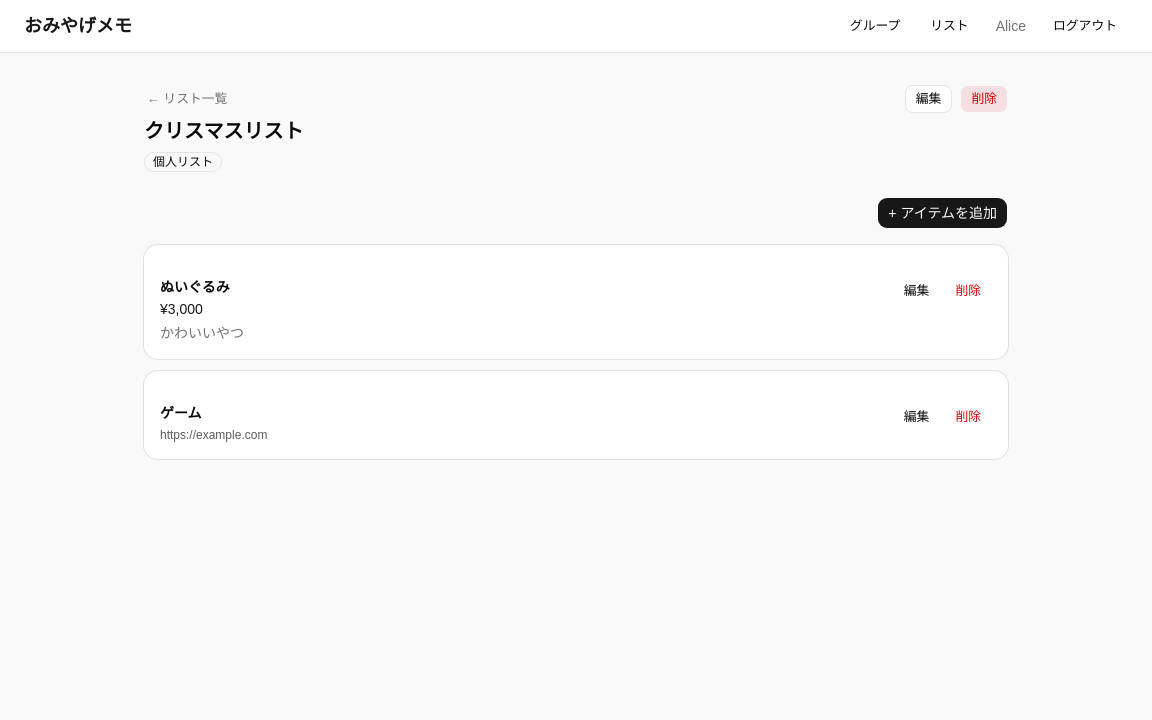
Test: GiftListDetailPage › アイテムを更新するとリストが更新される
Expected: the text "ぬいぐるみ" is shown, x1=160 y1=279 x2=230 y2=295
Step 1. Click the button with aria-label "ぬいぐるみを編集" → {"x": 917, "y": 291}, box x1=893 y1=277 x2=940 y2=305
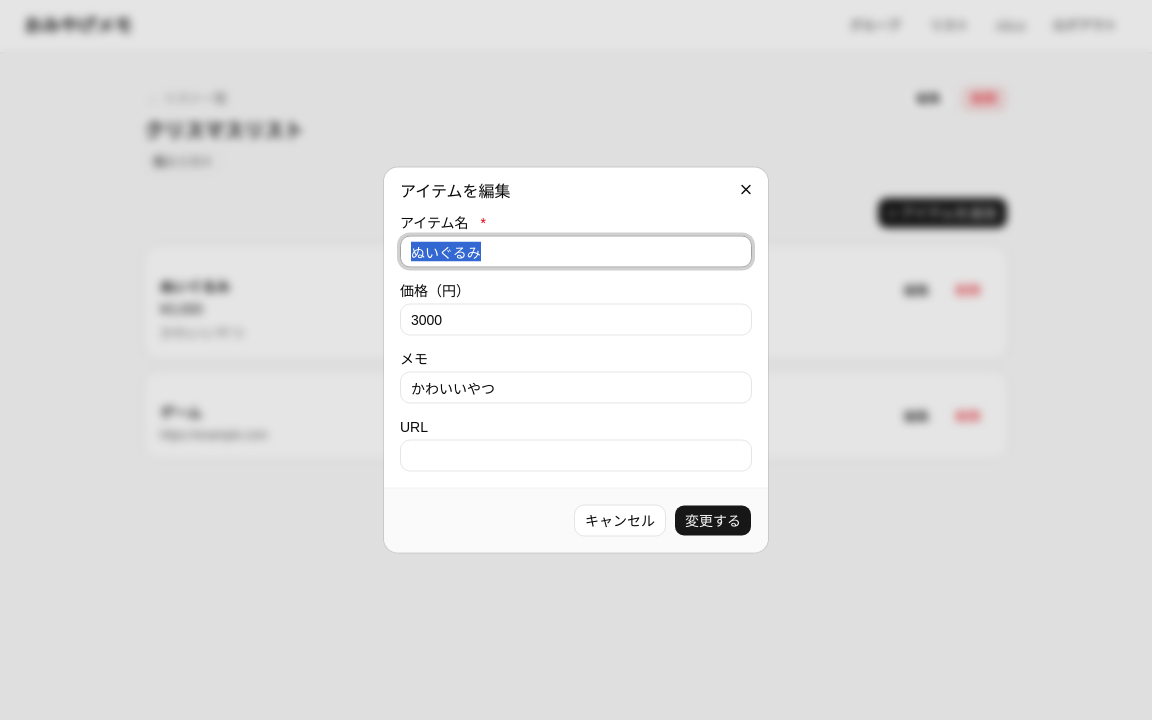
Step 2. Replace the text in the field showing "ぬいぐるみ" with "ぬいぐるみ（大）" → {"x": 576, "y": 252}, box x1=400 y1=236 x2=752 y2=268
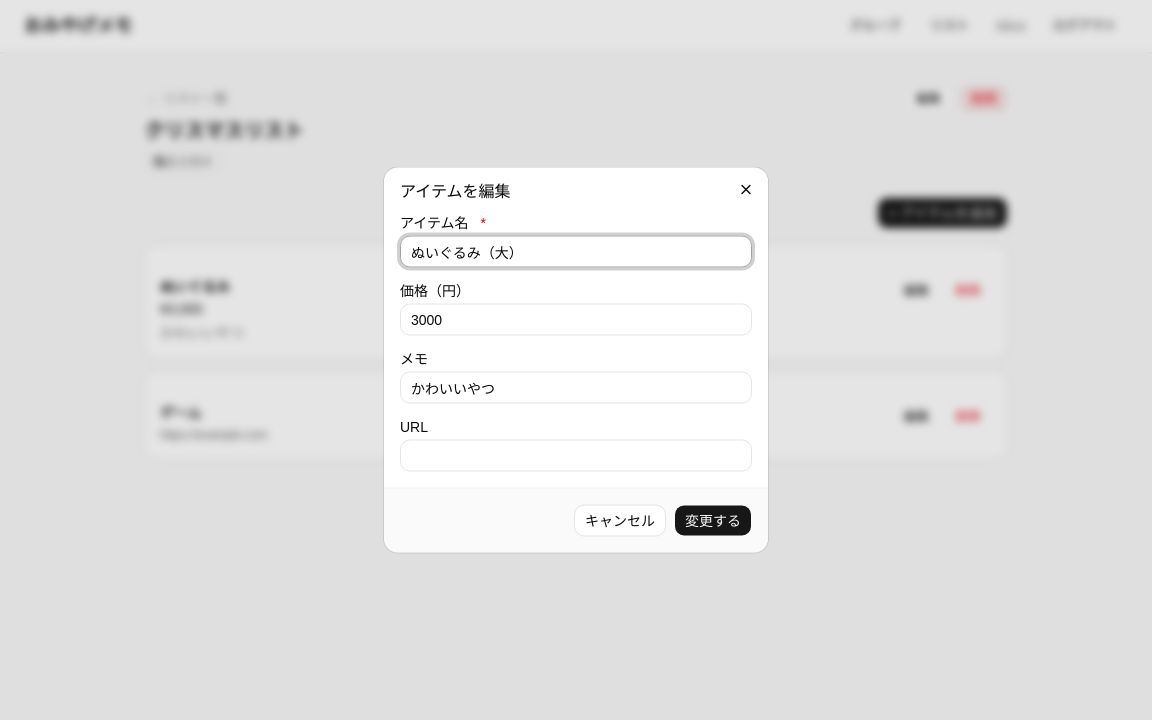
Step 3. Click the button "変更する" → {"x": 713, "y": 520}, box x1=674 y1=504 x2=752 y2=536
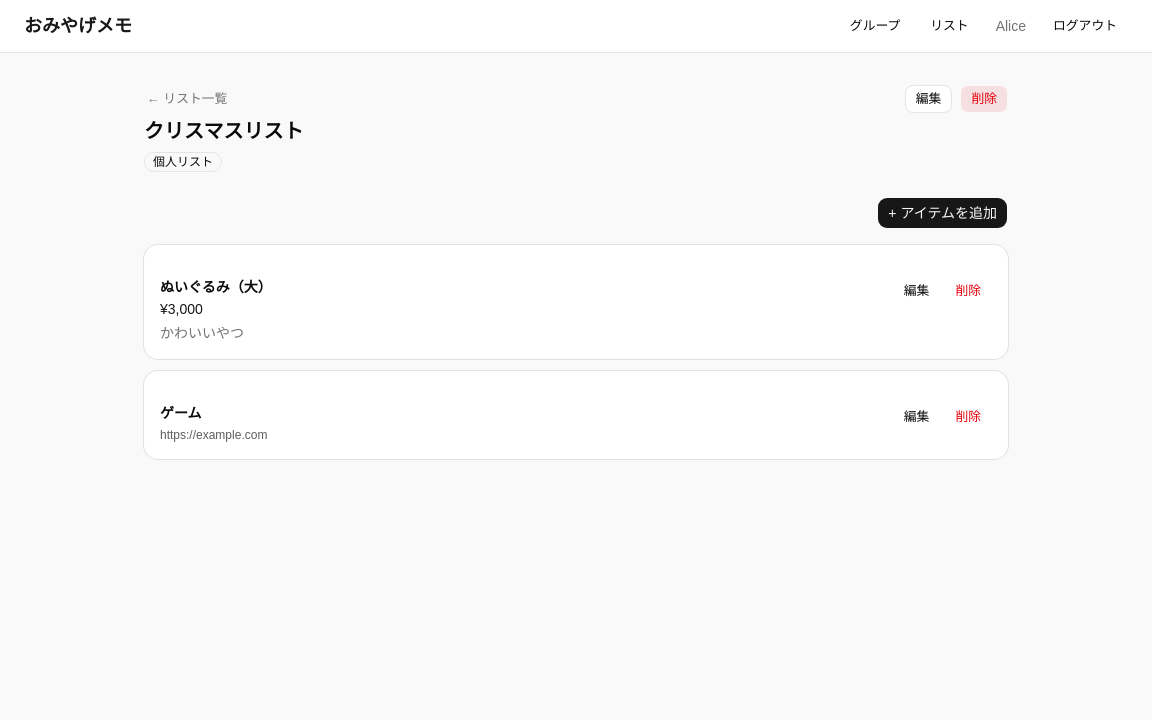
Result: the text "ぬいぐるみ（大）" is shown at x1=160 y1=279 x2=272 y2=295
